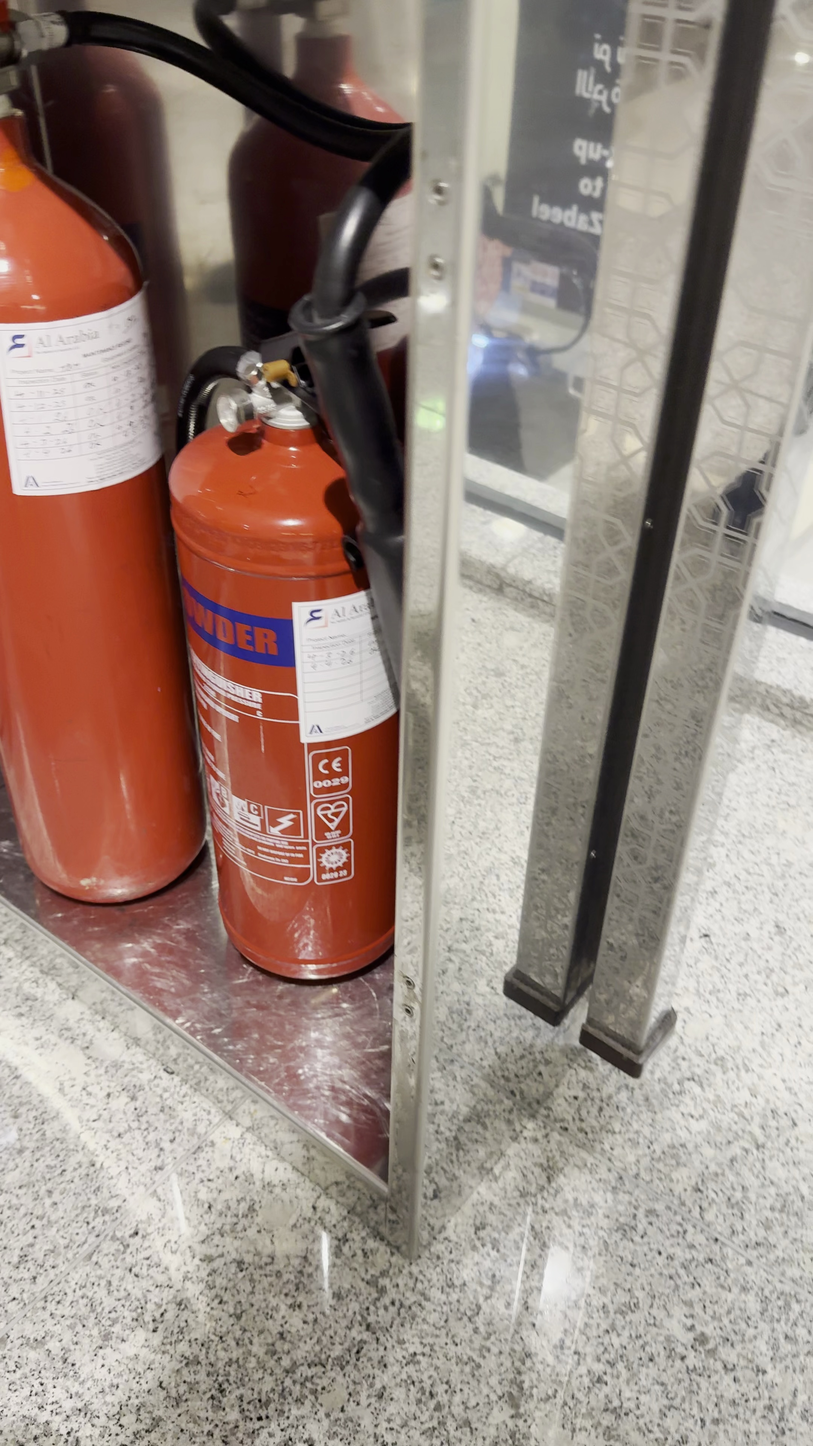fire_extinguisher: (1, 6, 209, 906), (166, 343, 402, 984), (195, 1, 414, 447)
